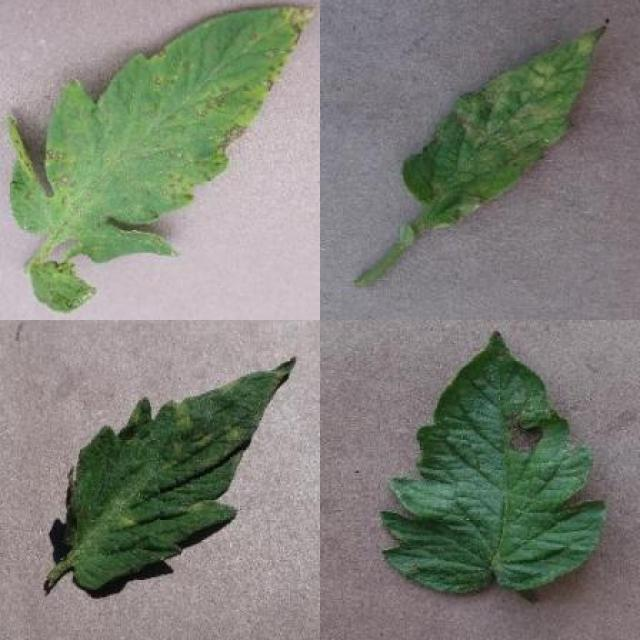Early Blight: (381, 329, 608, 596)
Leaf Mold: (67, 361, 292, 596), (402, 29, 604, 227)
Septoria: (9, 2, 314, 265)
